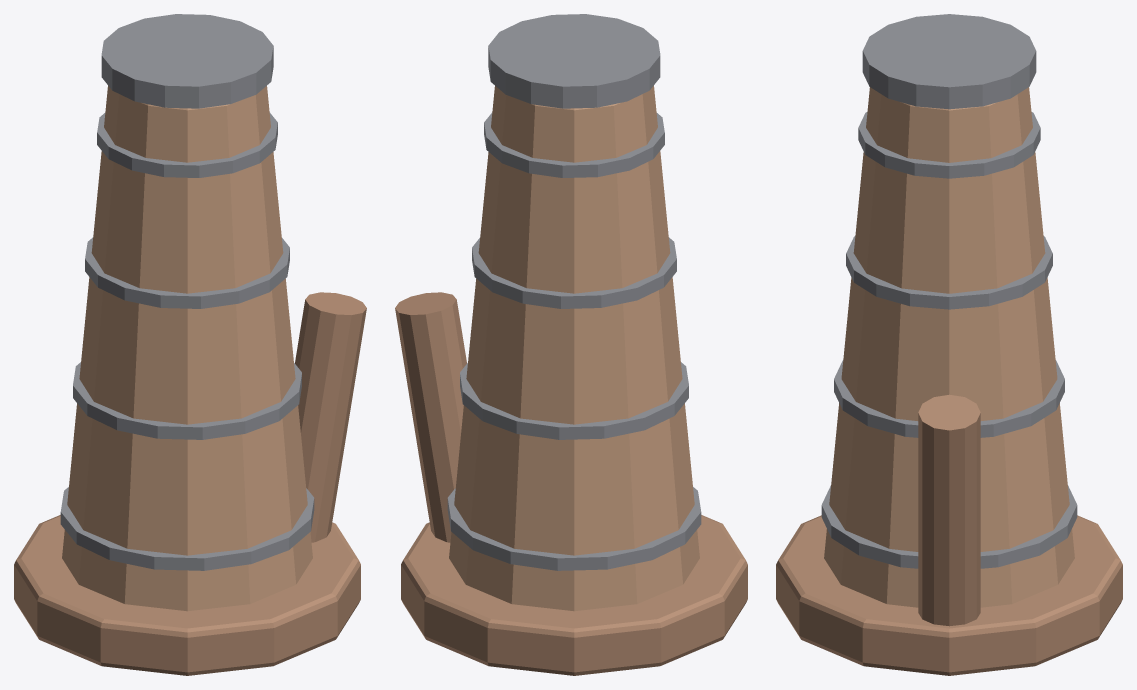
File: industrial_stack.glb
The picture shows the model from 3 angles, left to right: view 1: azimuth 30°, elevation 25°; view 2: azimuth 150°, elevation 25°; view 3: azimuth 270°, elevation 25°; orthographic projection.
Parts seen in each view (by area): view 1: StackChimney, StackBase, StackRim, StackPipe, StackBand, StackBand.001, StackBand.002, StackBand.003; view 2: StackChimney, StackBase, StackRim, StackPipe, StackBand, StackBand.001, StackBand.002, StackBand.003; view 3: StackChimney, StackBase, StackPipe, StackRim, StackBand.002, StackBand, StackBand.003, StackBand.001.
Boxes of the visible parts, <box> form: StackChimney: <box>62,85,312,611</box>; StackBase: <box>14,515,360,675</box>; StackRim: <box>101,14,273,108</box>; StackPipe: <box>295,292,366,542</box>; StackBand: <box>60,487,314,570</box>; StackBand.001: <box>73,362,301,439</box>; StackBand.002: <box>85,237,289,308</box>; StackBand.003: <box>97,112,277,177</box>; StackChimney: <box>449,85,699,611</box>; StackBase: <box>401,515,747,675</box>; StackRim: <box>488,14,660,108</box>; StackPipe: <box>395,292,466,542</box>; StackBand: <box>447,487,701,570</box>; StackBand.001: <box>460,362,688,439</box>; StackBand.002: <box>472,237,676,308</box>; StackBand.003: <box>484,112,664,177</box>; StackChimney: <box>824,87,1074,607</box>; StackBase: <box>776,515,1122,675</box>; StackPipe: <box>918,394,980,626</box>; StackRim: <box>862,14,1036,109</box>; StackBand.002: <box>846,236,1052,309</box>; StackBand: <box>821,485,1077,568</box>; StackBand.003: <box>858,112,1040,178</box>; StackBand.001: <box>834,360,1064,437</box>.
Size of the model in its own units: 2.17 by 3.53 by 2.
